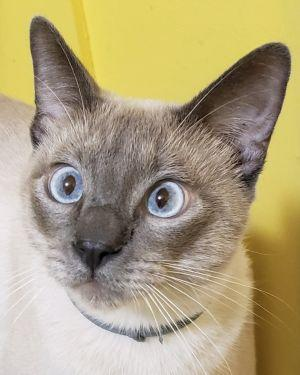siamese: (1, 13, 300, 312)
